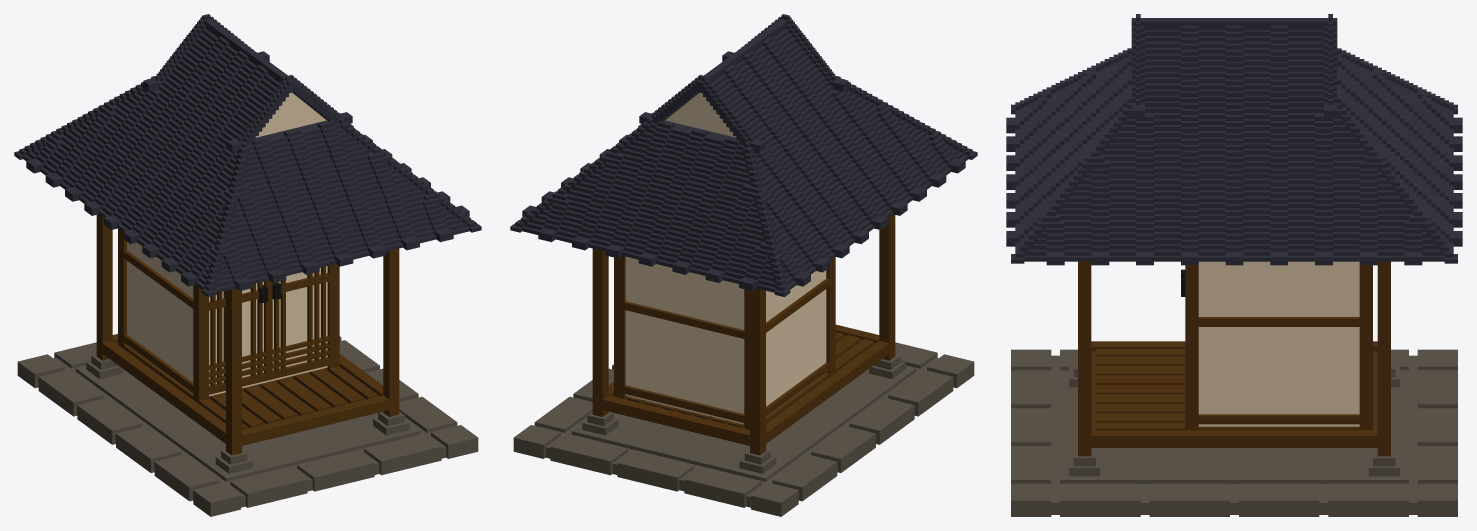
Rendered from house4.glb.
3 renders of one model, left to right at view 1: azimuth 30°, elevation 25°; view 2: azimuth 150°, elevation 25°; view 3: azimuth 270°, elevation 25°, orthographic. The views are drawn at different scales.
Visible parts, largest first — view 1: Voxel_Korean_traditional village-26; view 2: Voxel_Korean_traditional village-26; view 3: Voxel_Korean_traditional village-26.
Boxes of the visible parts, bbox=[...] form: Voxel_Korean_traditional village-26: bbox=[14, 14, 481, 516]; Voxel_Korean_traditional village-26: bbox=[510, 14, 977, 516]; Voxel_Korean_traditional village-26: bbox=[1006, 14, 1462, 516].
Bounding box in the file's own units: 83.98 × 105 × 102.
Materials: 1 (1 with a texture image).
